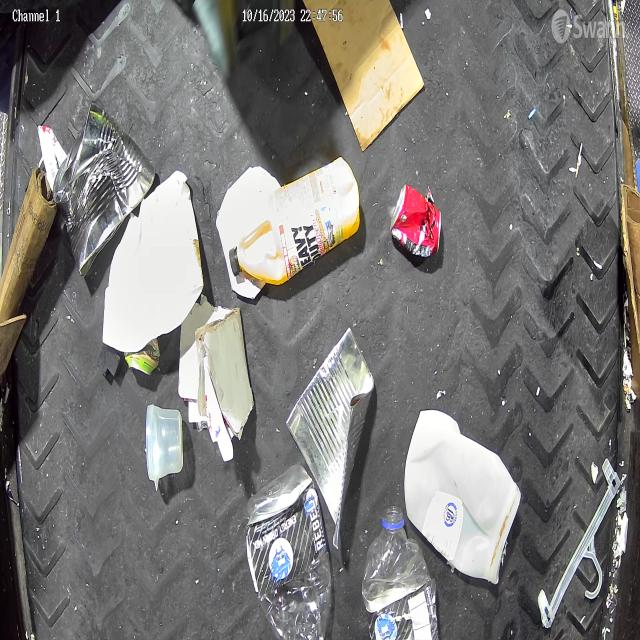can: (53, 104, 156, 279), (391, 184, 442, 259), (124, 337, 160, 375)
milk_jug: (404, 412, 522, 585)
non_white_jug: (229, 156, 360, 286)
plastic_bottle: (246, 462, 332, 640), (361, 506, 433, 638)
